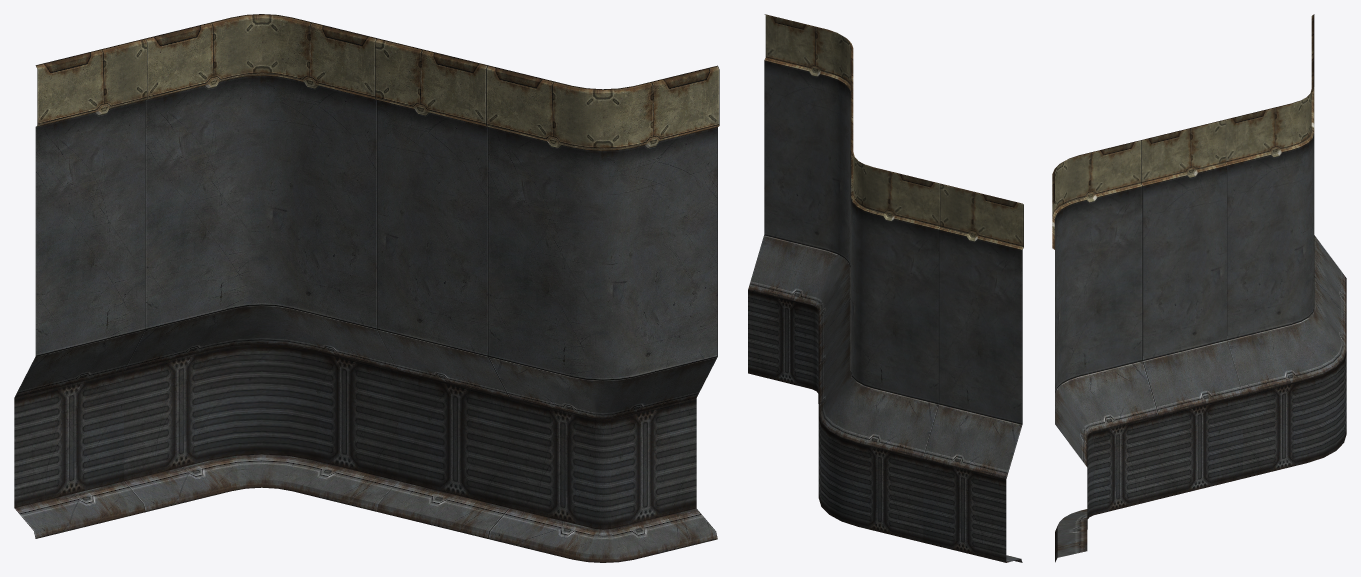
Rendered from datasite_omicron_airlock_special.dae.
3 views of the same model, side by side, from view 1: azimuth 30°, elevation 25°; view 2: azimuth 150°, elevation 25°; view 3: azimuth 270°, elevation 25° (orthographic). The views are drawn at different scales.
Parts seen in each view (by area): view 1: omicron_airlock_special; view 2: omicron_airlock_special; view 3: omicron_airlock_special.
Boxes of the visible parts, left/top/right/bottom form: omicron_airlock_special: left=14, top=14, right=719, bottom=562; omicron_airlock_special: left=748, top=14, right=1023, bottom=562; omicron_airlock_special: left=1052, top=14, right=1346, bottom=562.
Size of the model in its own units: 4.52 by 4 by 2.97.
